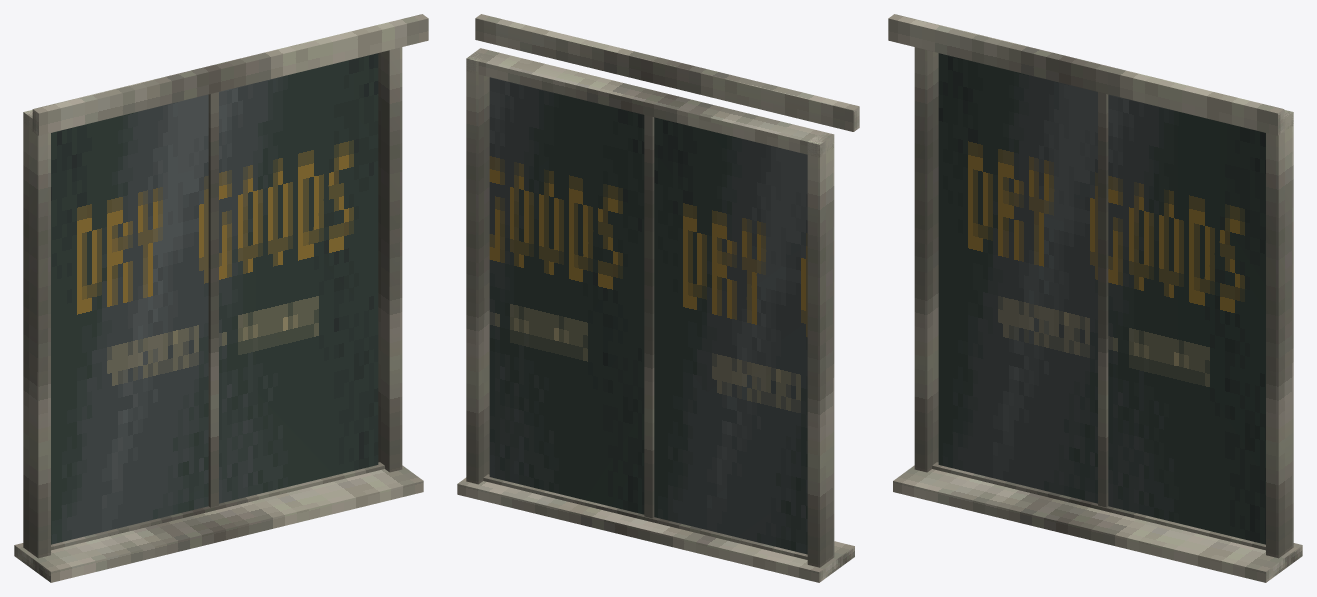
File: window_store.glb
3 views of the same model, side by side, from view 1: azimuth 30°, elevation 25°; view 2: azimuth 150°, elevation 25°; view 3: azimuth 330°, elevation 25° (orthographic). The views are drawn at different scales.
Parts seen in each view (by area): view 1: window_store; view 2: window_store; view 3: window_store.
Part boxes in pixels (<box>): window_store: <box>14,14,428,582</box>; window_store: <box>457,14,859,582</box>; window_store: <box>888,14,1302,582</box>.
Bounding box in the file's own units: 1.84 × 2.11 × 0.3.
1 material, 1 textured.
